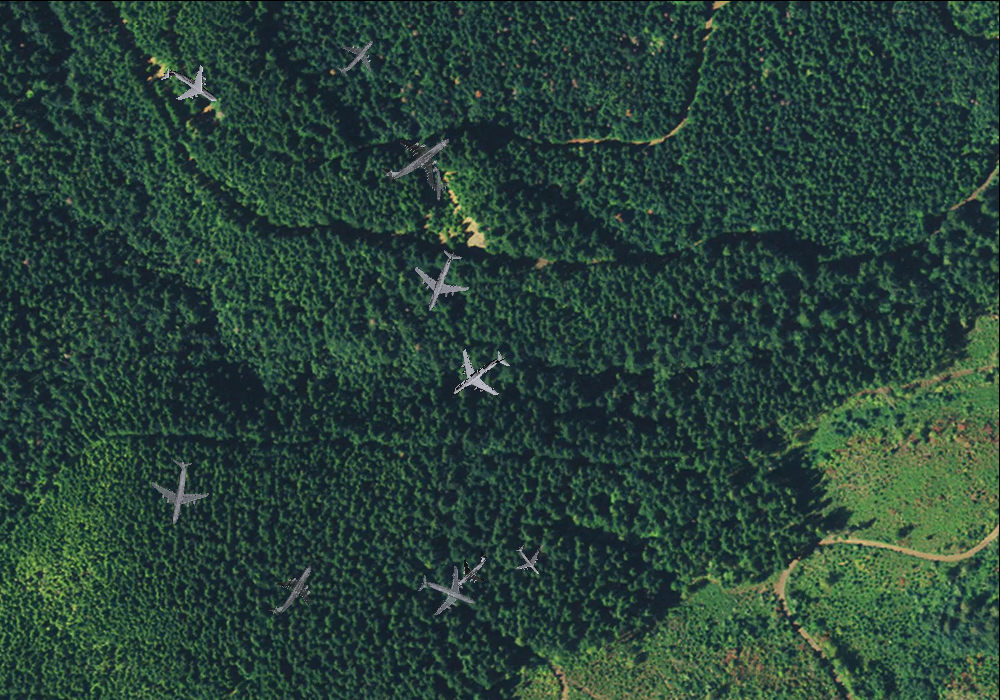plane: (367, 109, 466, 207), (435, 332, 522, 418), (402, 241, 480, 321), (150, 47, 229, 124), (254, 551, 330, 630), (409, 555, 486, 630), (141, 454, 215, 529), (325, 25, 387, 87), (443, 542, 499, 598), (506, 538, 551, 583), (421, 165, 452, 201)
